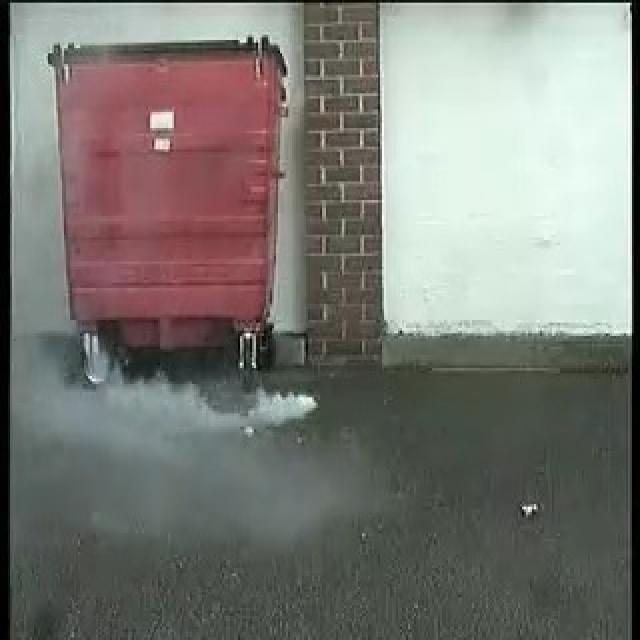smoke: (45, 376, 319, 440)
